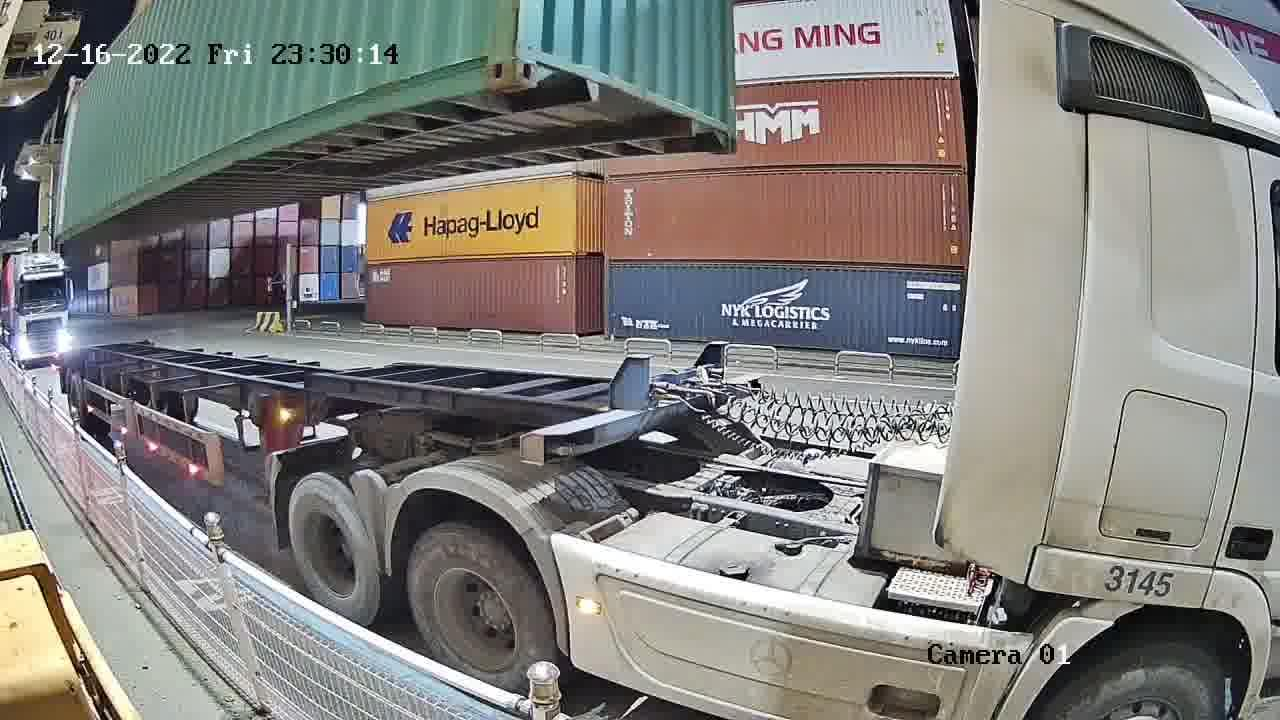Chassis: (518, 369, 764, 468)
Container: (518, 34, 738, 159)
Hole_L: (515, 33, 557, 93)
Hole_R: (466, 32, 517, 92), (714, 104, 738, 157)
Tire: (405, 528, 557, 692), (289, 479, 379, 627)
